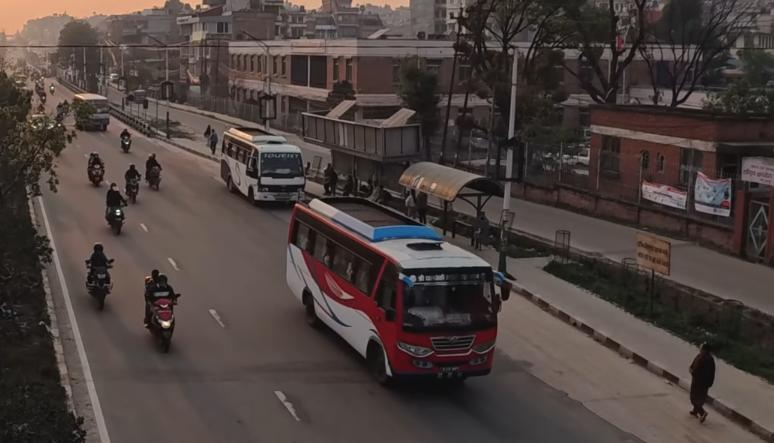bus: (283, 192, 512, 400), (217, 121, 311, 213)
